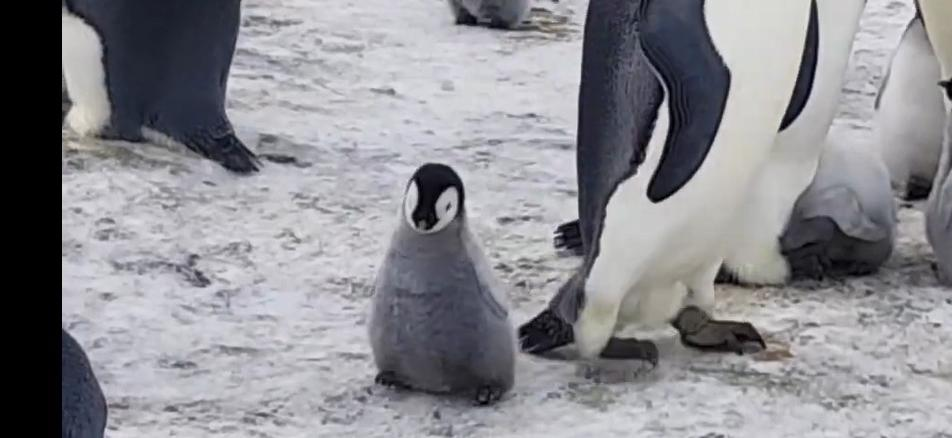Emperor Penguin: (538, 0, 863, 364), (62, 0, 282, 202), (708, 0, 884, 120), (889, 0, 952, 57)
